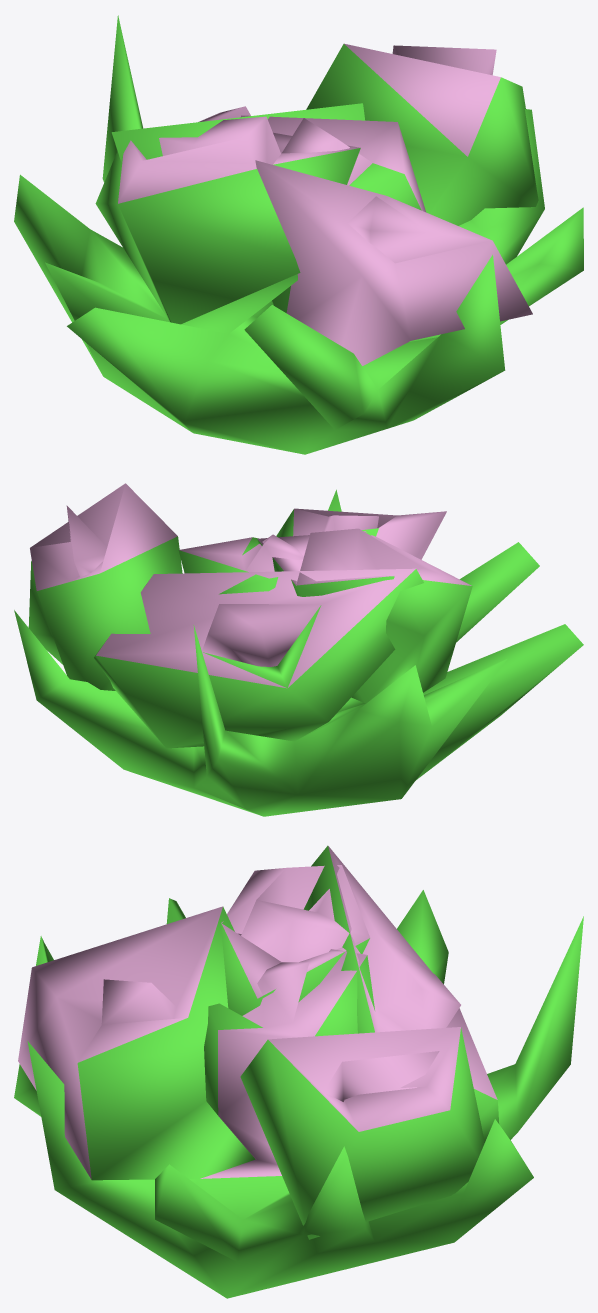
File: grass-g.glb
3 views of the same model, one above another, from view 1: azimuth 30°, elevation 25°; view 2: azimuth 150°, elevation 25°; view 3: azimuth 270°, elevation 25° (orthographic). The views are drawn at different scales.
Visible parts, largest first — view 1: grass4.001; view 2: grass4.001; view 3: grass4.001.
Part boxes in pixels (bbox=[...]): grass4.001: bbox=[14, 15, 583, 454]; grass4.001: bbox=[14, 483, 583, 816]; grass4.001: bbox=[14, 845, 583, 1298].
Bounding box in the file's own units: 3.08 × 1.78 × 2.68.
